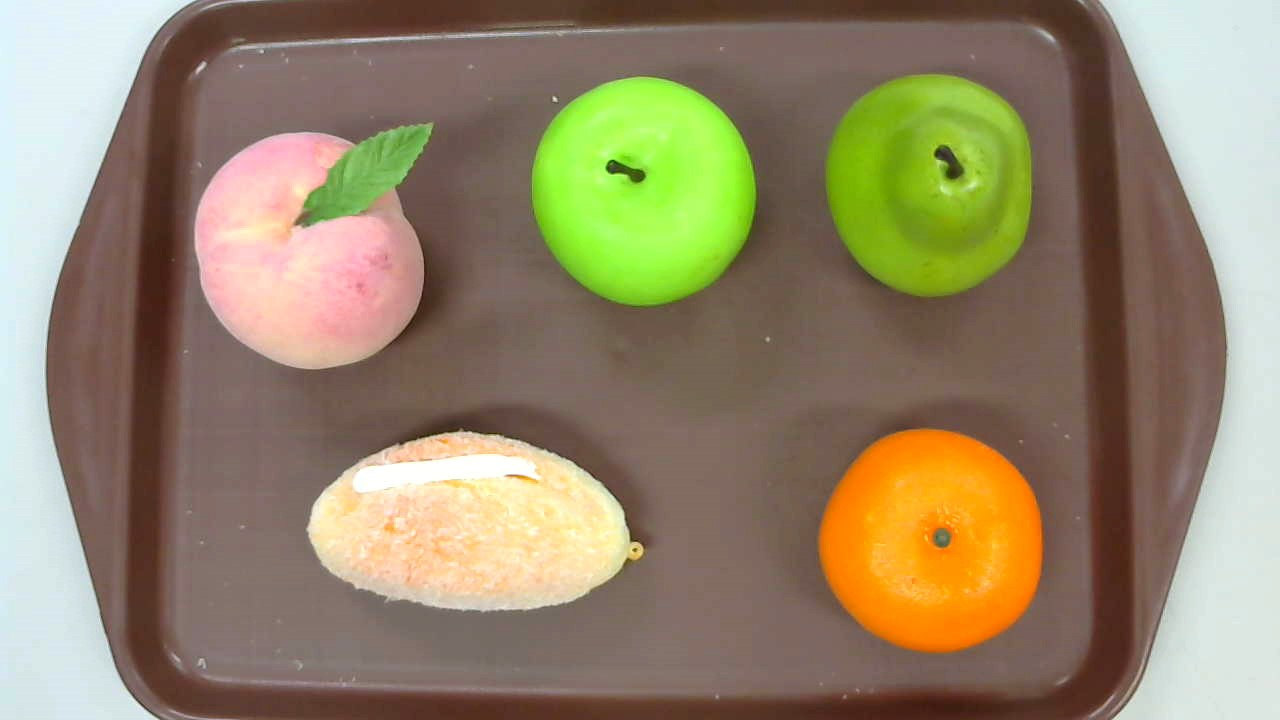coconut: (307, 430, 645, 612)
green apple: (530, 77, 756, 306)
green pear: (825, 74, 1033, 298)
orange: (818, 427, 1042, 654)
peach: (194, 120, 435, 372)
